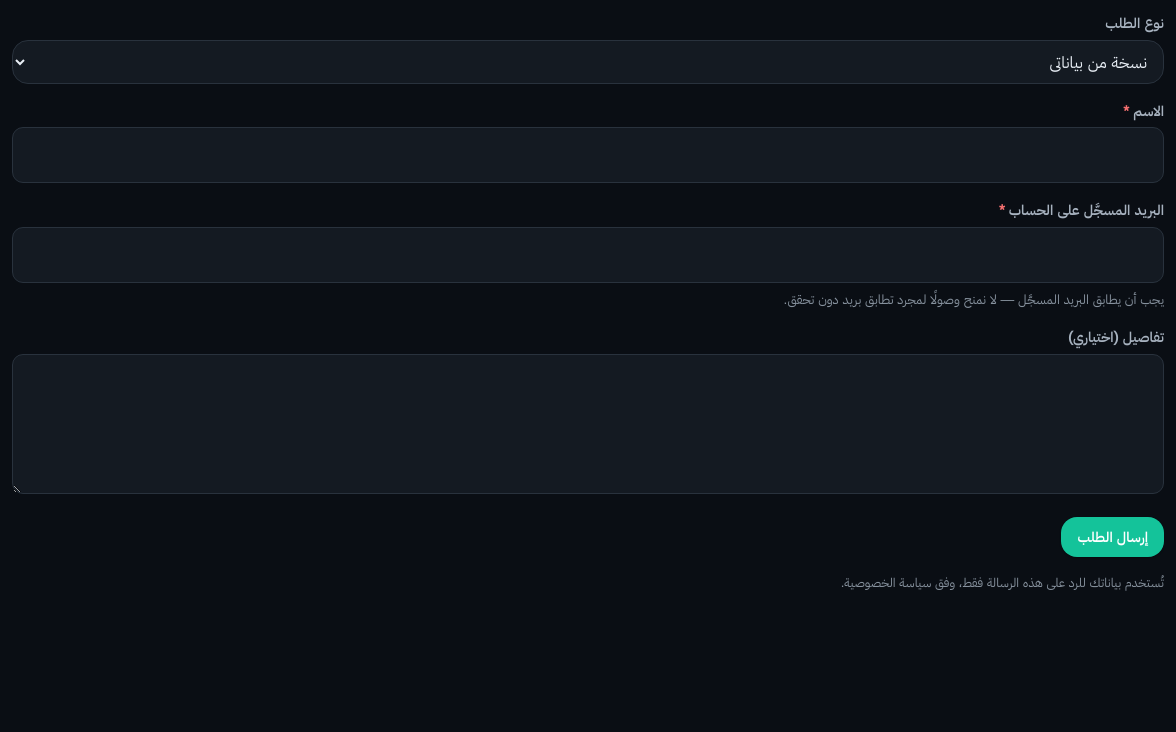
Test: the data-request form › says nothing is in the way when a deletion is clear to proceed
Select "حذف الحساب بالكامل" in the dropdown labelled "نوع الطلب" at point(588, 62), box [12,40,1164,84]
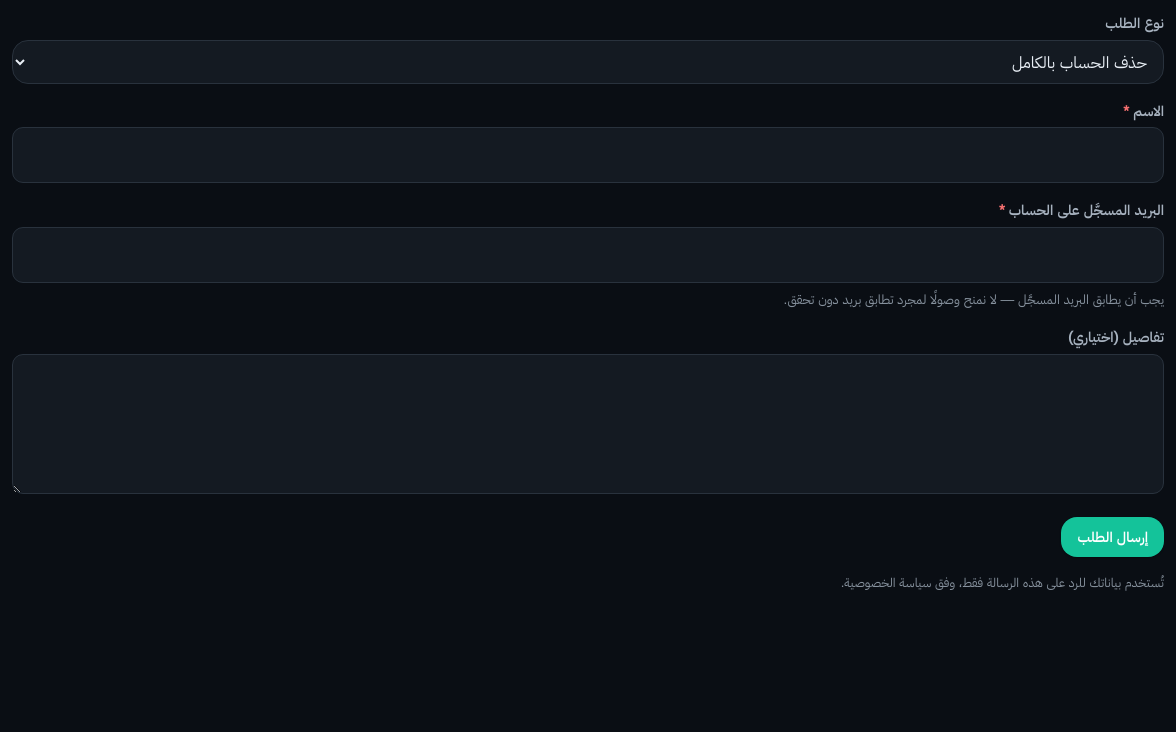
Type "نورة" into the field labelled "الاسم *" at point(588, 155), box [12,127,1164,183]
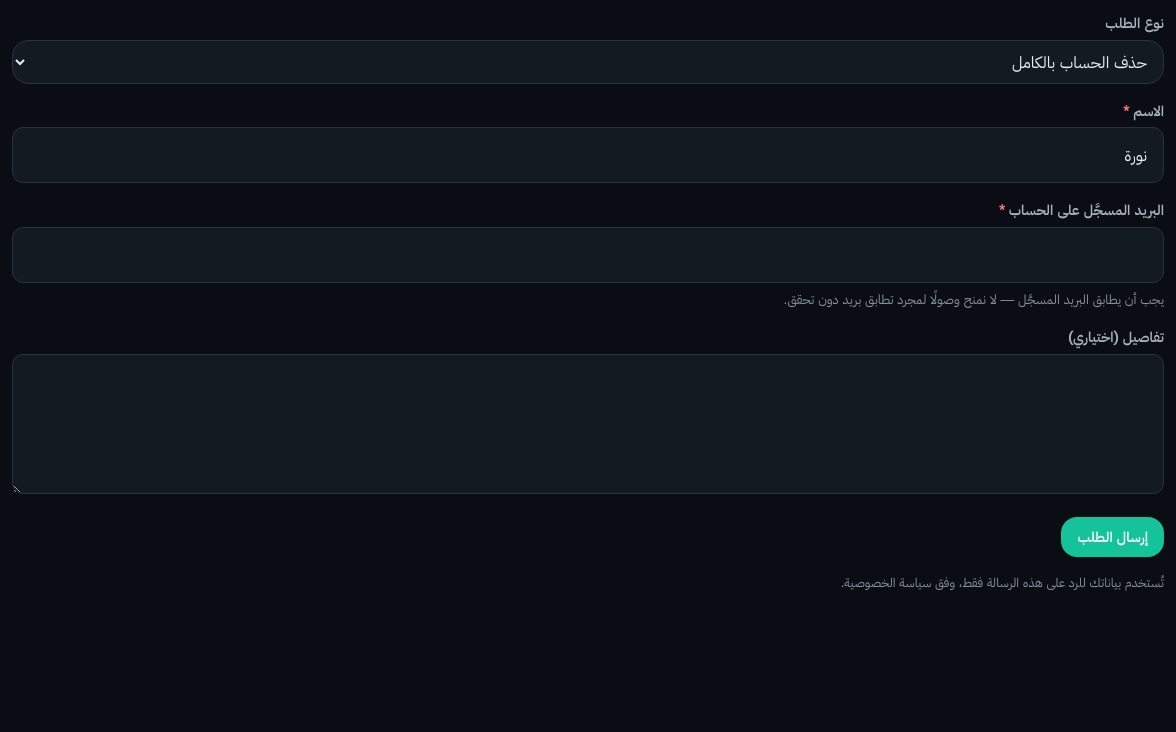
Type "n@example.test" into the field labelled "البريد المسجَّل على الحساب *" at point(588, 255), box [12,227,1164,283]
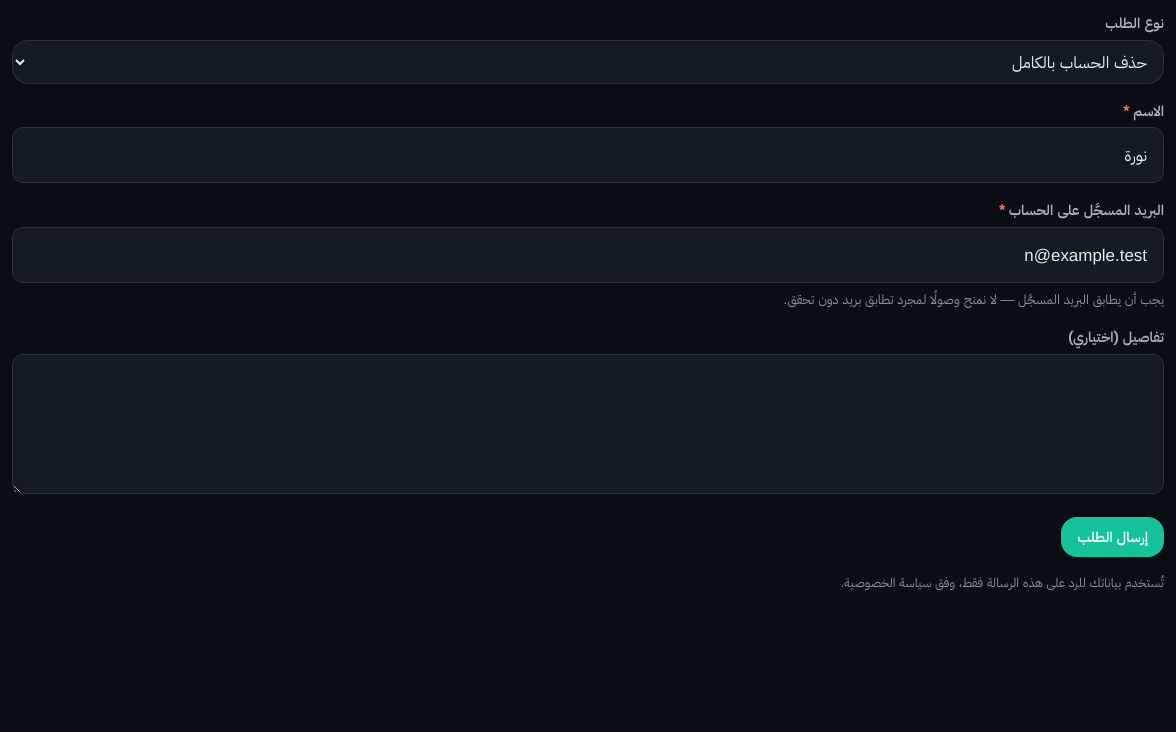
Click the button with test id "data-request-form-submit" at point(1113, 537), box [1062,517,1164,557]
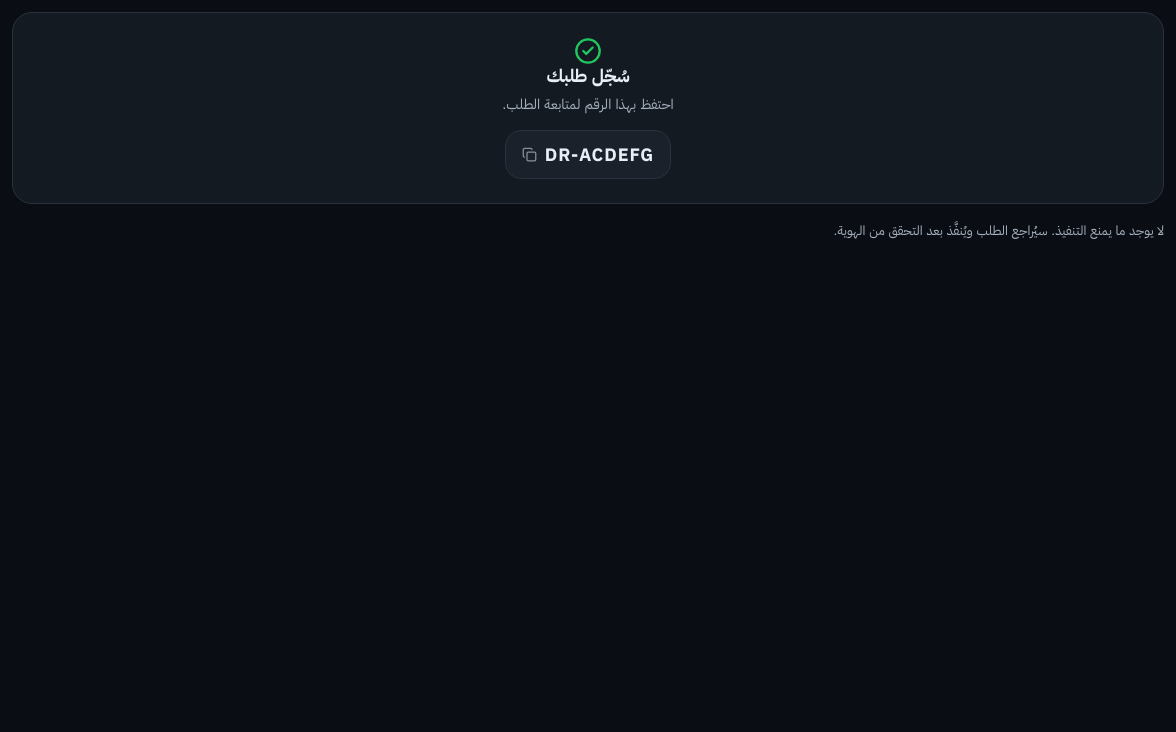
Check: the text "DR-ACDEFG" is shown, box [545,141,654,168]
Check: the text "لا يوجد ما يمنع التنفيذ" is shown, box [834,222,1164,238]
